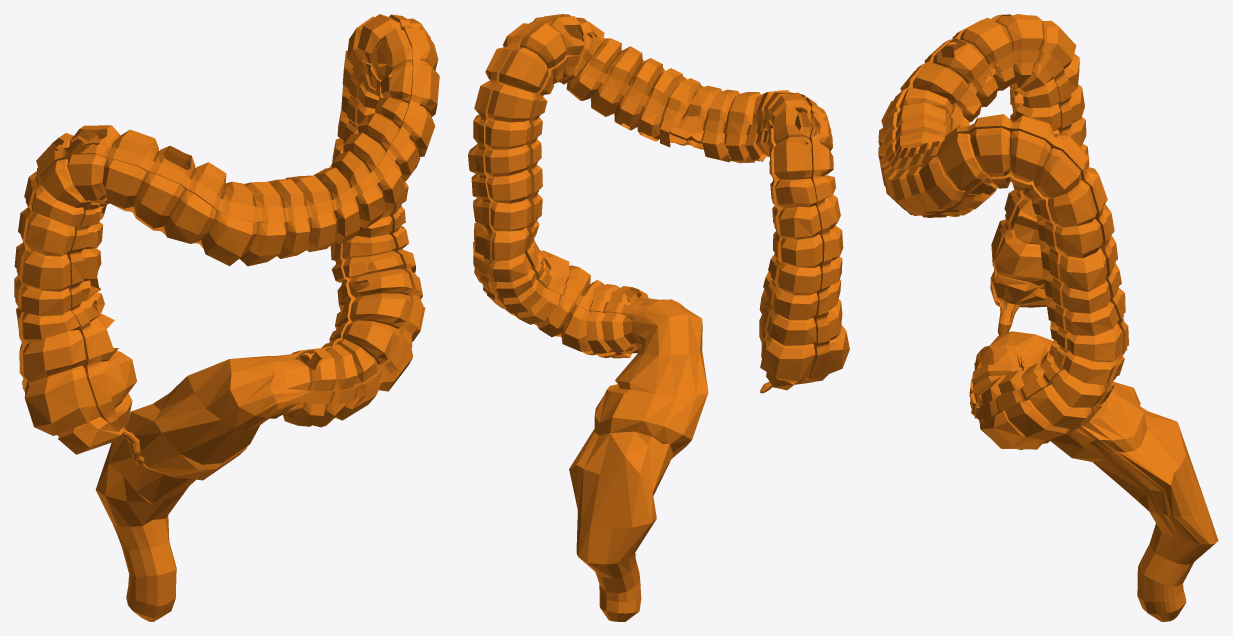
Rendered from large int.gltf.
3 views of the same model, side by side, from view 1: azimuth 30°, elevation 25°; view 2: azimuth 150°, elevation 25°; view 3: azimuth 270°, elevation 25° (orthographic). The views are drawn at different scales.
Visible parts, largest first — view 1: node_id32.004; view 2: node_id32.004; view 3: node_id32.004.
Part boxes in pixels (left/top/right/bottom): node_id32.004: left=14, top=14, right=439, bottom=621; node_id32.004: left=468, top=14, right=849, bottom=621; node_id32.004: left=878, top=14, right=1218, bottom=621.
Size of the model in its own units: 2.73 by 3.86 by 2.06.
